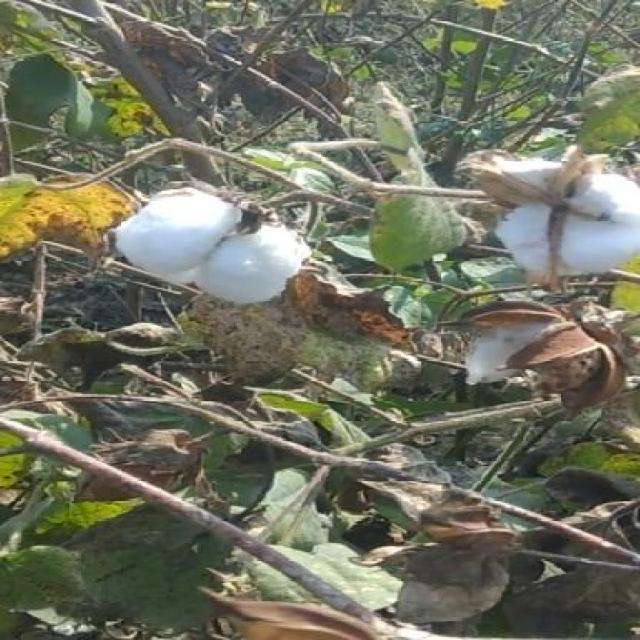cotton_ready: (83, 187, 354, 298), (435, 140, 639, 285)
